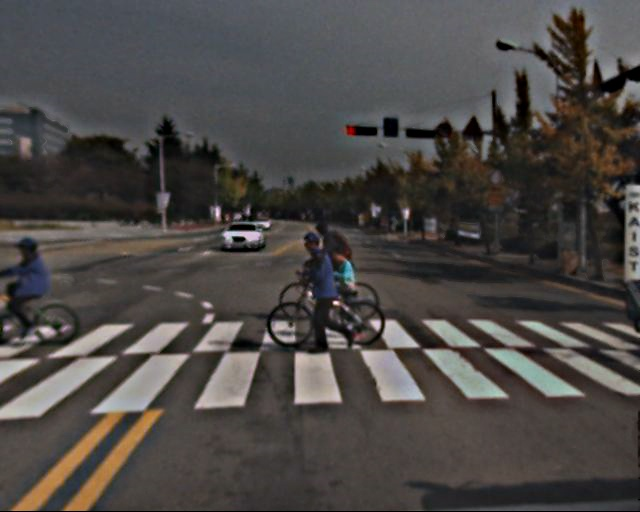person: (6, 233, 71, 342), (296, 233, 352, 352), (312, 221, 357, 326), (326, 246, 369, 343)
